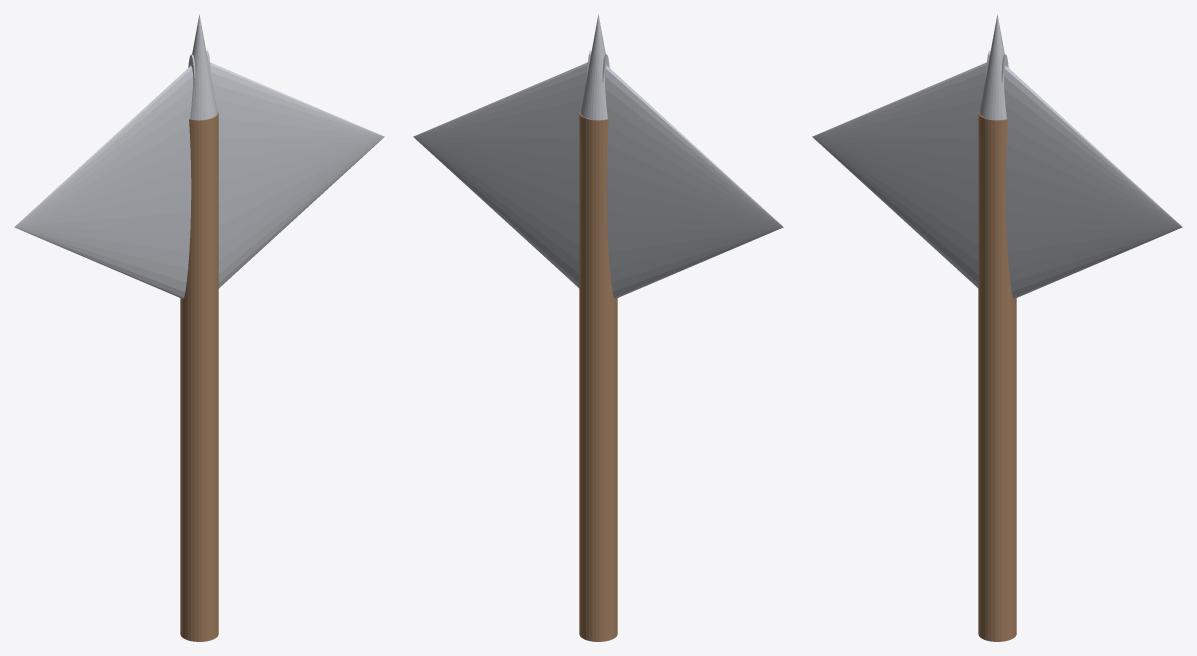
Rendered from weapon_double_waraxe.glb.
3 views of the same model, side by side, from view 1: azimuth 30°, elevation 25°; view 2: azimuth 150°, elevation 25°; view 3: azimuth 330°, elevation 25° (orthographic).
Visible parts, largest first — view 1: Cone, Cone.001, Cylinder, Cone.002; view 2: Cone, Cone.001, Cylinder, Cone.002; view 3: Cone.001, Cone, Cylinder, Cone.002.
Part boxes in pixels (bbox=[...]): Cone: bbox=[14, 50, 211, 298]; Cone.001: bbox=[188, 54, 384, 288]; Cylinder: bbox=[180, 112, 218, 641]; Cone.002: bbox=[190, 14, 217, 119]; Cone: bbox=[586, 50, 783, 298]; Cone.001: bbox=[413, 54, 609, 288]; Cylinder: bbox=[579, 112, 617, 641]; Cone.002: bbox=[580, 14, 607, 119]; Cone.001: bbox=[985, 50, 1182, 298]; Cone: bbox=[812, 54, 1008, 288]; Cylinder: bbox=[978, 112, 1016, 641]; Cone.002: bbox=[979, 14, 1006, 119].
Bounding box in the file's own units: 0.67 × 1.07 × 0.06.
